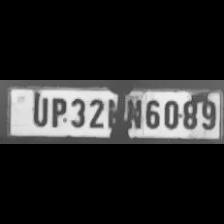0: (162, 97, 180, 129)
2: (86, 96, 106, 128)
3: (68, 96, 86, 128)
6: (141, 97, 161, 129)
8: (181, 96, 199, 130)
9: (198, 96, 218, 130)
N: (106, 94, 122, 130), (124, 94, 140, 130)
P: (47, 95, 66, 127)
U: (28, 94, 48, 128)
